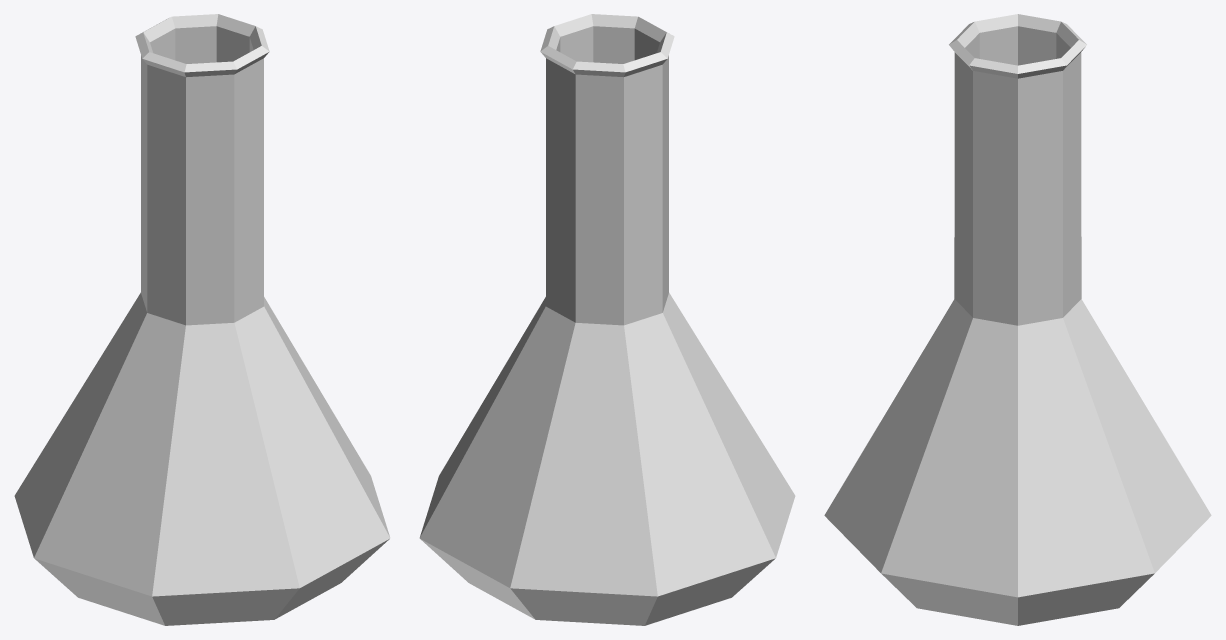
Rendered from Potion G.fbx.
The picture shows the model from 3 angles, left to right: view 1: azimuth 30°, elevation 25°; view 2: azimuth 150°, elevation 25°; view 3: azimuth 270°, elevation 25°; orthographic projection.
Visible parts, largest first — view 1: Circle.011; view 2: Circle.011; view 3: Circle.011.
Part boxes in pixels (bbox=[...]): Circle.011: bbox=[14, 14, 390, 625]; Circle.011: bbox=[419, 14, 795, 625]; Circle.011: bbox=[824, 14, 1211, 625].
Size of the model in its own units: 28.24 by 42.28 by 28.24.
2 materials, 2 textured.
